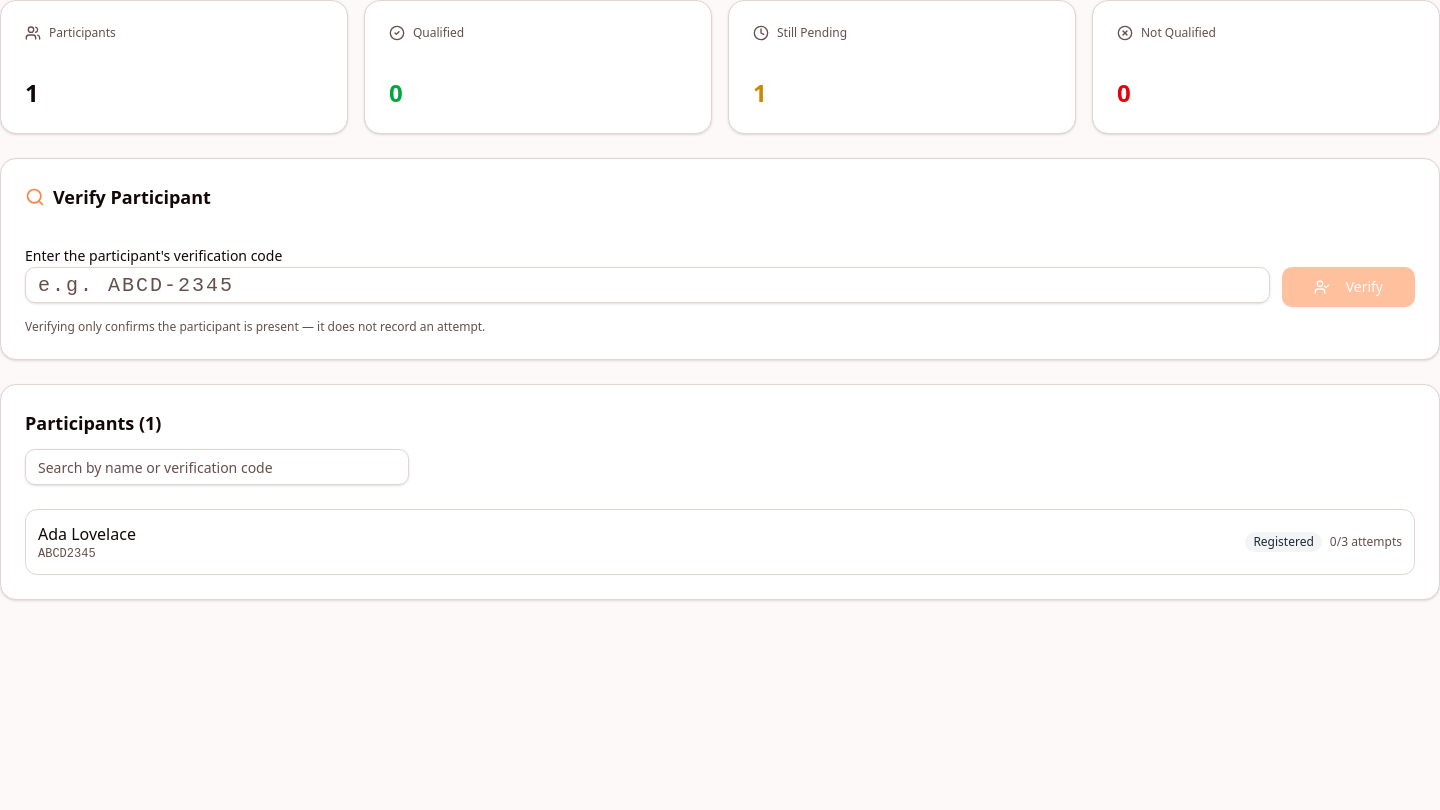
Scenario: T-REM-3: ParticipantManager remove/ban › reveals separate Remove and Ban actions and explains the difference
The width and height of the screenshot is (1440, 810).
Click the button "Ada Lovelace ABCD2345 Registered 0/3 attempts" at x=87, y=534, box [25,509,1415,575]
(page scrolled)
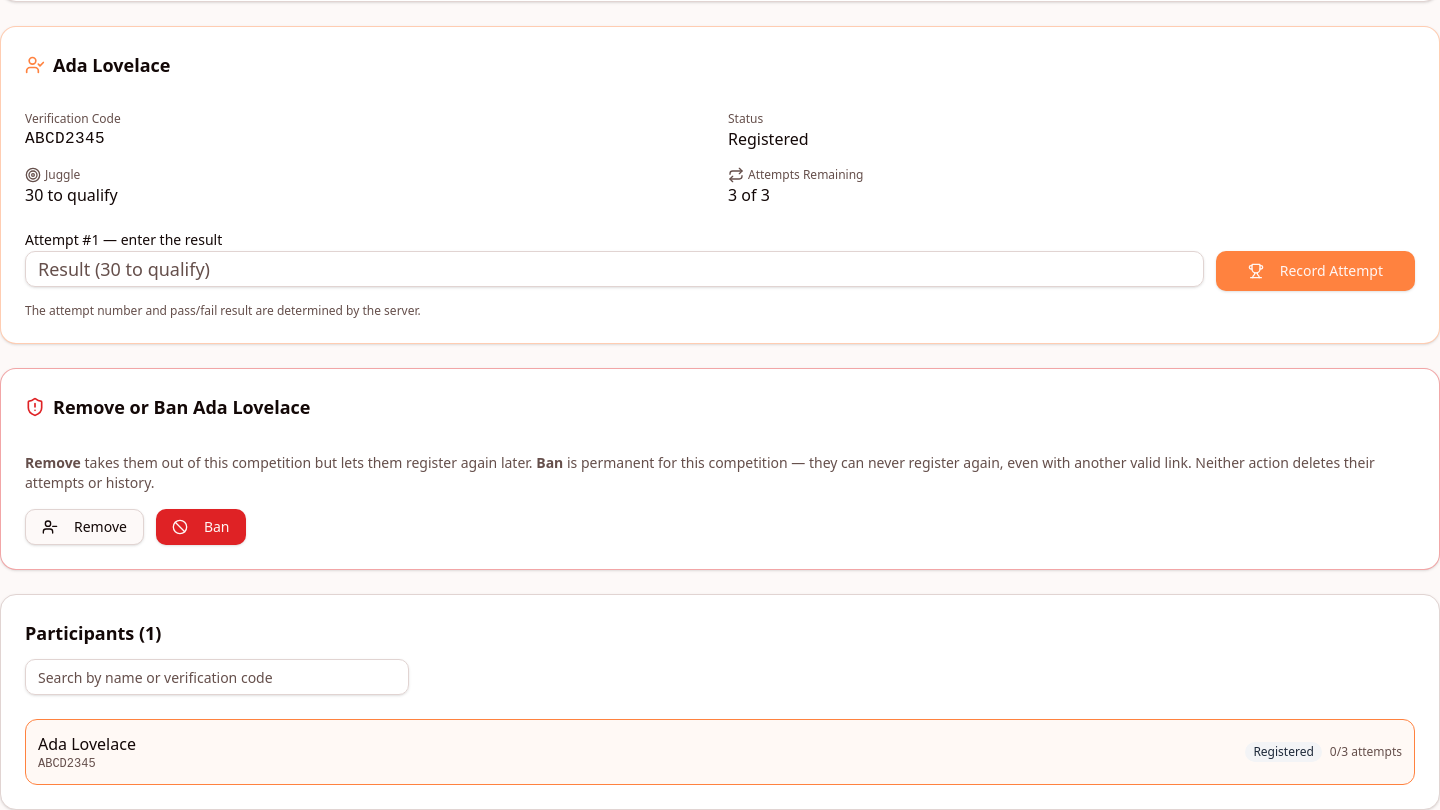
Now the button "Remove" is shown, box [25,509,144,545]
Now the button "Ban" is shown, box [156,509,246,545]
Now the text "register again later" is shown, box [81,453,536,472]
